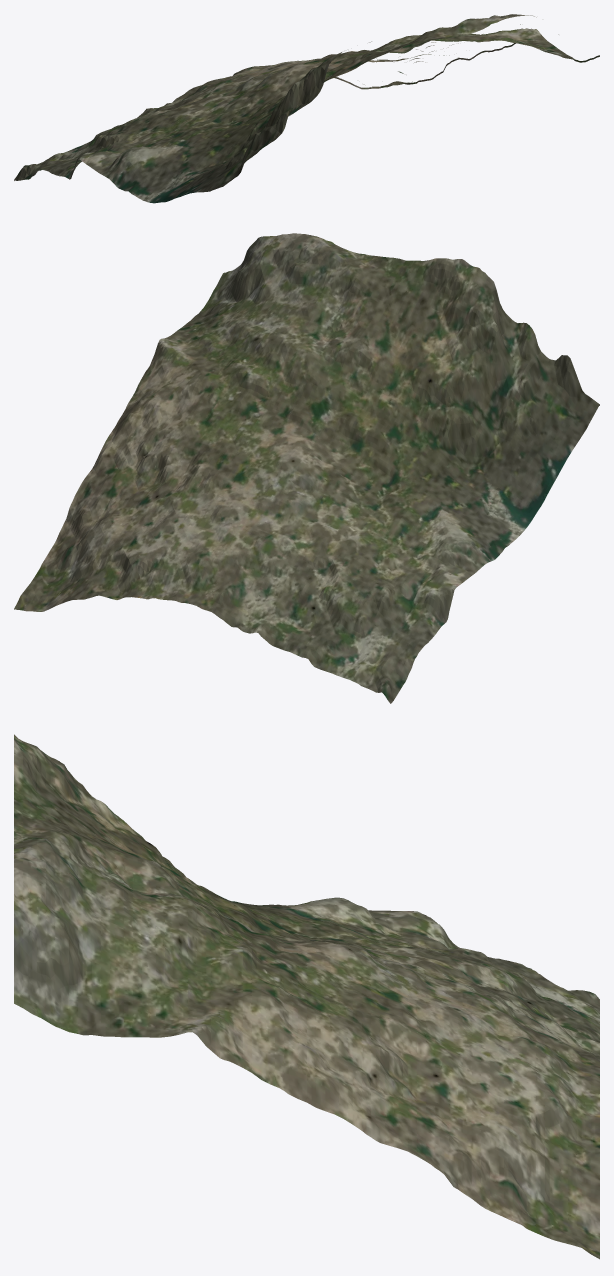
The picture shows the model from 3 angles, top to bottom: view 1: azimuth 30°, elevation 25°; view 2: azimuth 150°, elevation 25°; view 3: azimuth 270°, elevation 25°; orthographic projection. The views are drawn at different scales.
Bounding box in the file's own units: 250 × 165 × 241.
1 material, 1 textured.
